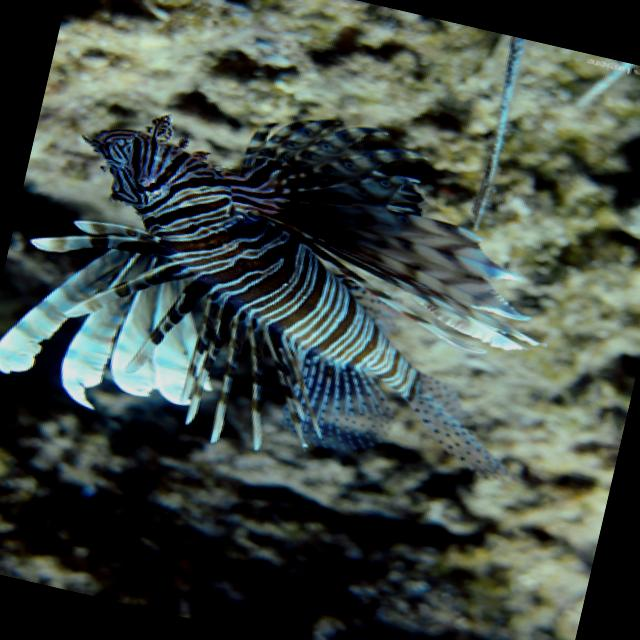Aslan Baligi: (0, 54, 588, 515)
